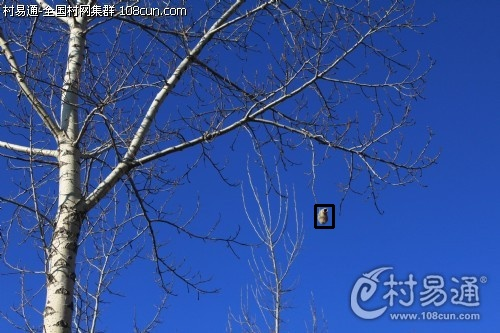bird-nest: (314, 206, 331, 229)
